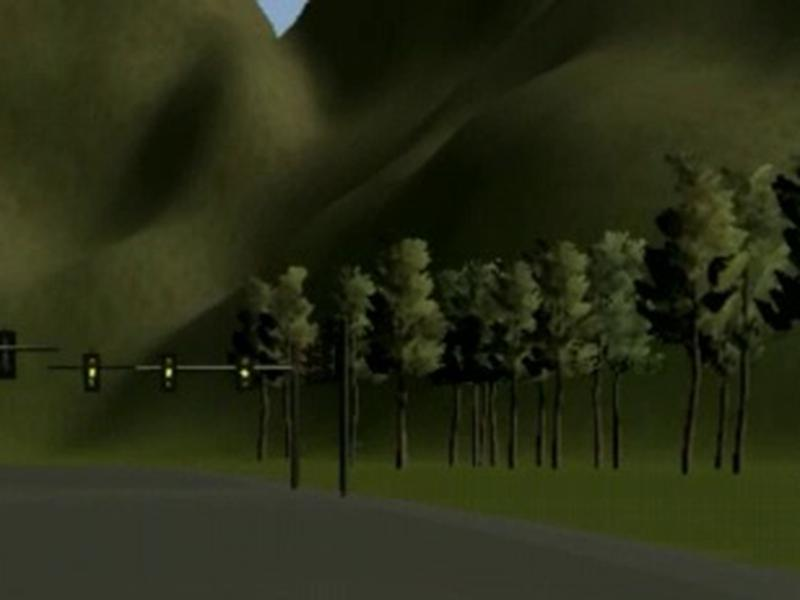Yellow: (84, 352, 100, 391), (237, 354, 252, 389), (161, 356, 176, 391)
